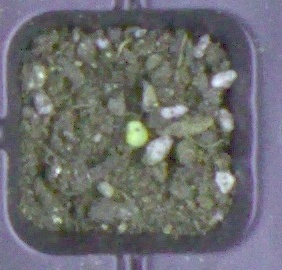chilli seed: (125, 119, 149, 147)
